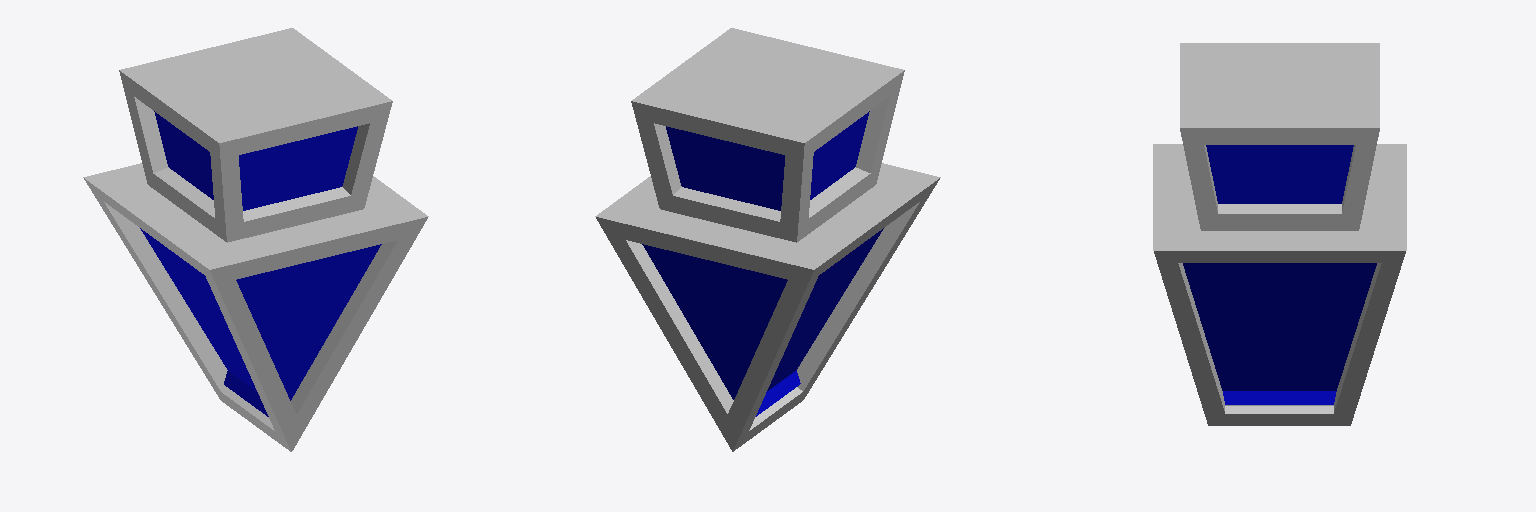
The model's file is ArrowArtifact.obj.
3 renders of one model, left to right at view 1: azimuth 30°, elevation 25°; view 2: azimuth 150°, elevation 25°; view 3: azimuth 270°, elevation 25°, orthographic.
Visible parts, largest first — view 1: ArrowModel_Cube.001; view 2: ArrowModel_Cube.001; view 3: ArrowModel_Cube.001.
Boxes of the visible parts, x1=… form: ArrowModel_Cube.001: x1=83, y1=28, x2=428, y2=451; ArrowModel_Cube.001: x1=595, y1=28, x2=940, y2=451; ArrowModel_Cube.001: x1=1153, y1=43, x2=1406, y2=425.
Size of the model in its own units: 1 by 1.49 by 1.